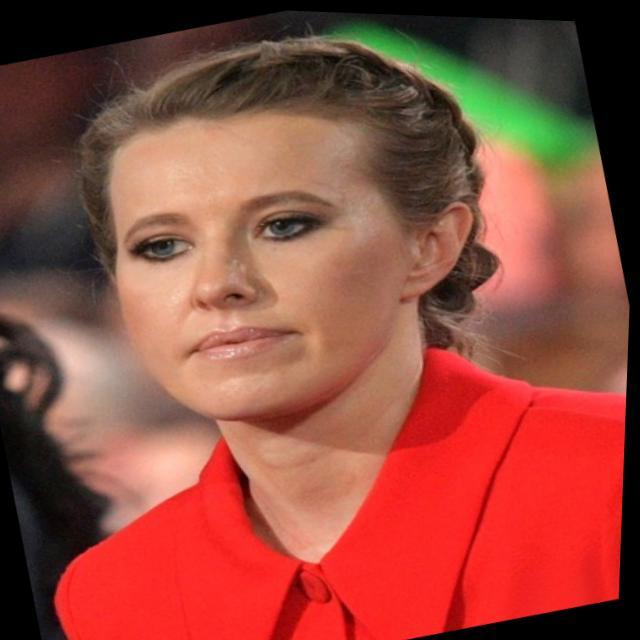Nonhelmet: (73, 30, 504, 423)
